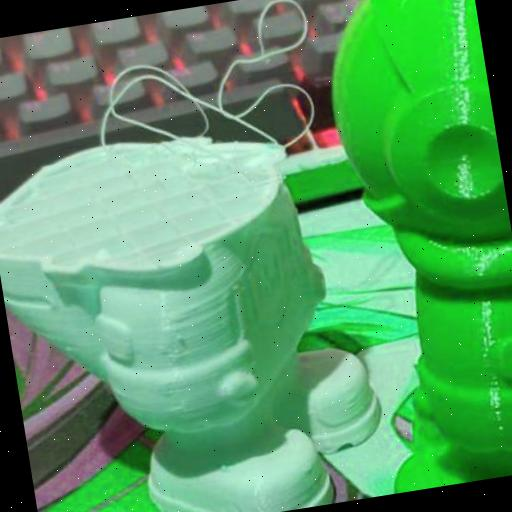spaghetti: (79, 0, 327, 180)
